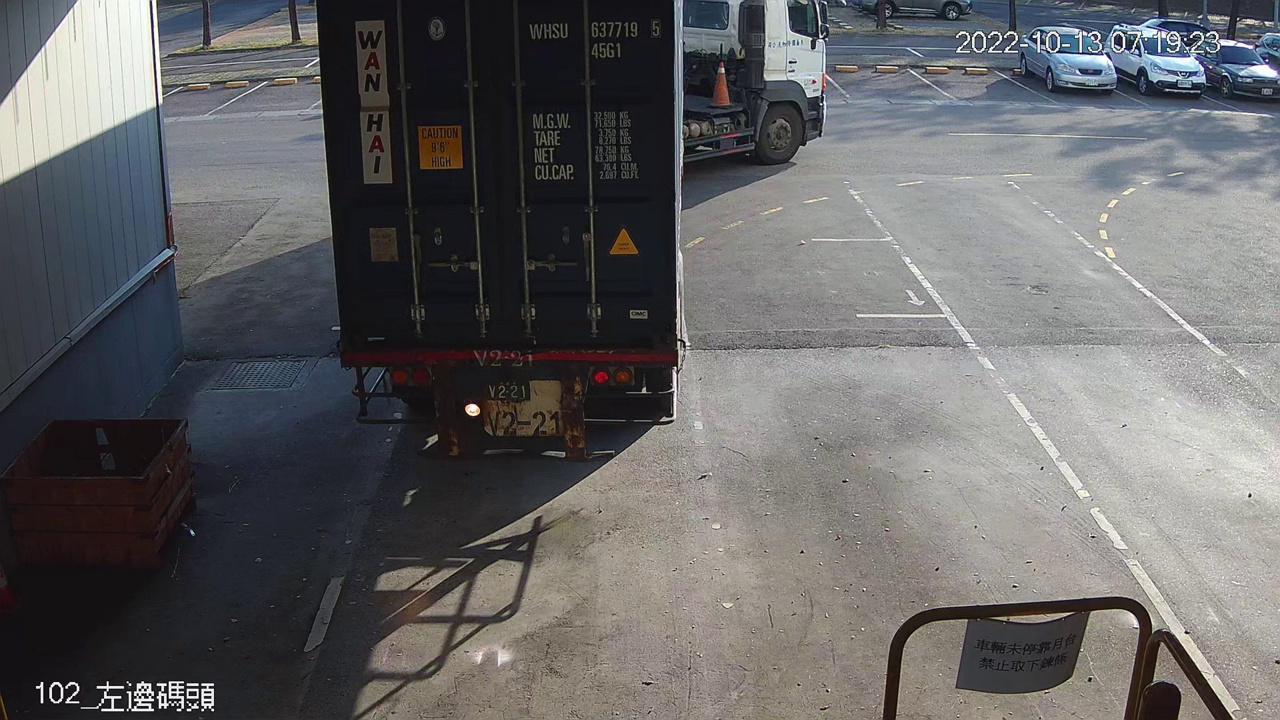container: (522, 14, 666, 65)
